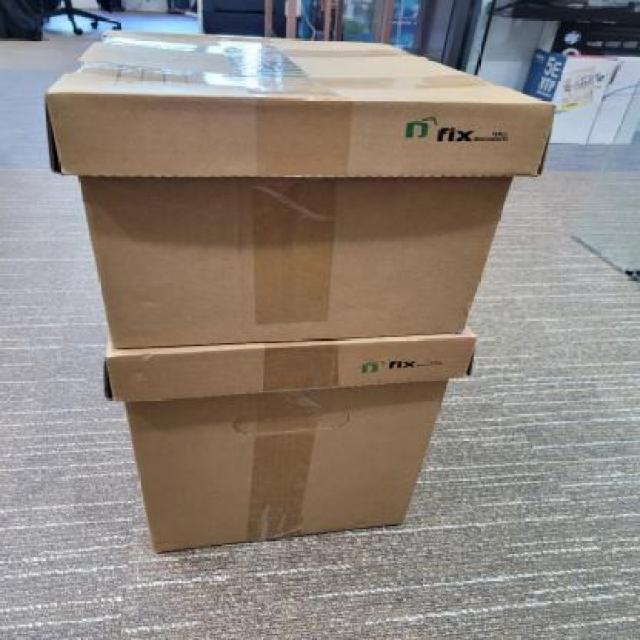box: (44, 27, 554, 350), (103, 325, 480, 558)
